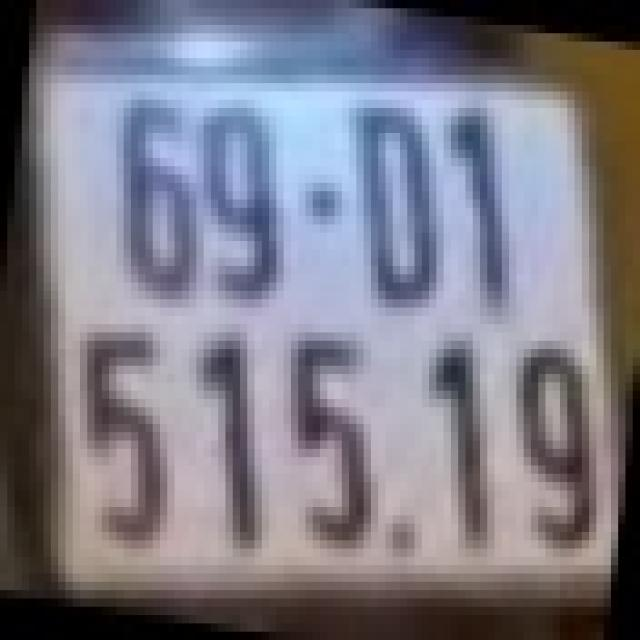1: (196, 336, 262, 544), (429, 345, 495, 553), (451, 108, 516, 308)
5: (76, 328, 171, 544), (291, 332, 378, 548)
6: (124, 96, 196, 295)
9: (516, 349, 596, 549), (204, 100, 284, 299)
D: (356, 104, 436, 303)
